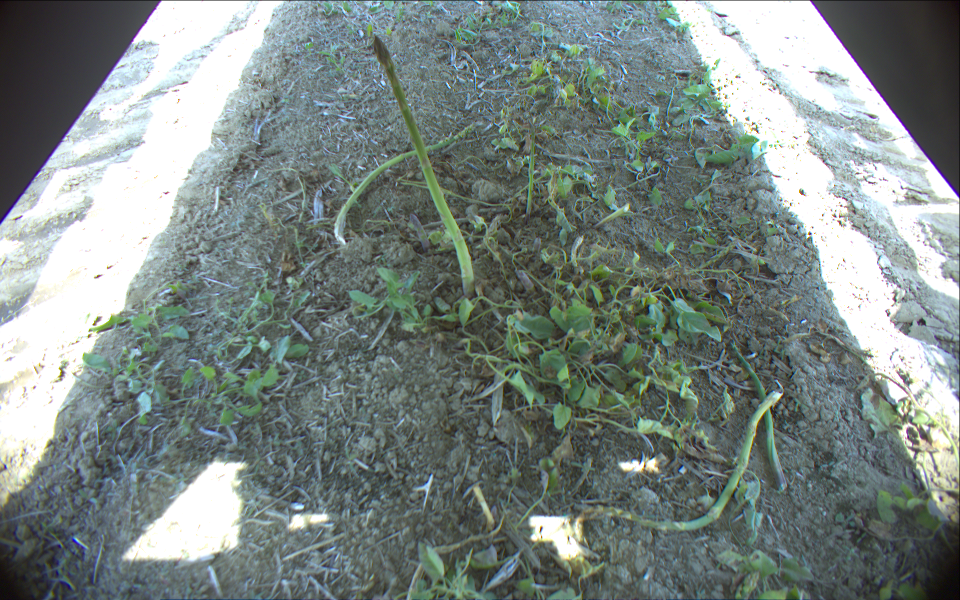aspa: (575, 389, 784, 534), (373, 36, 477, 297), (331, 118, 476, 242), (733, 342, 788, 493), (524, 119, 537, 214)
